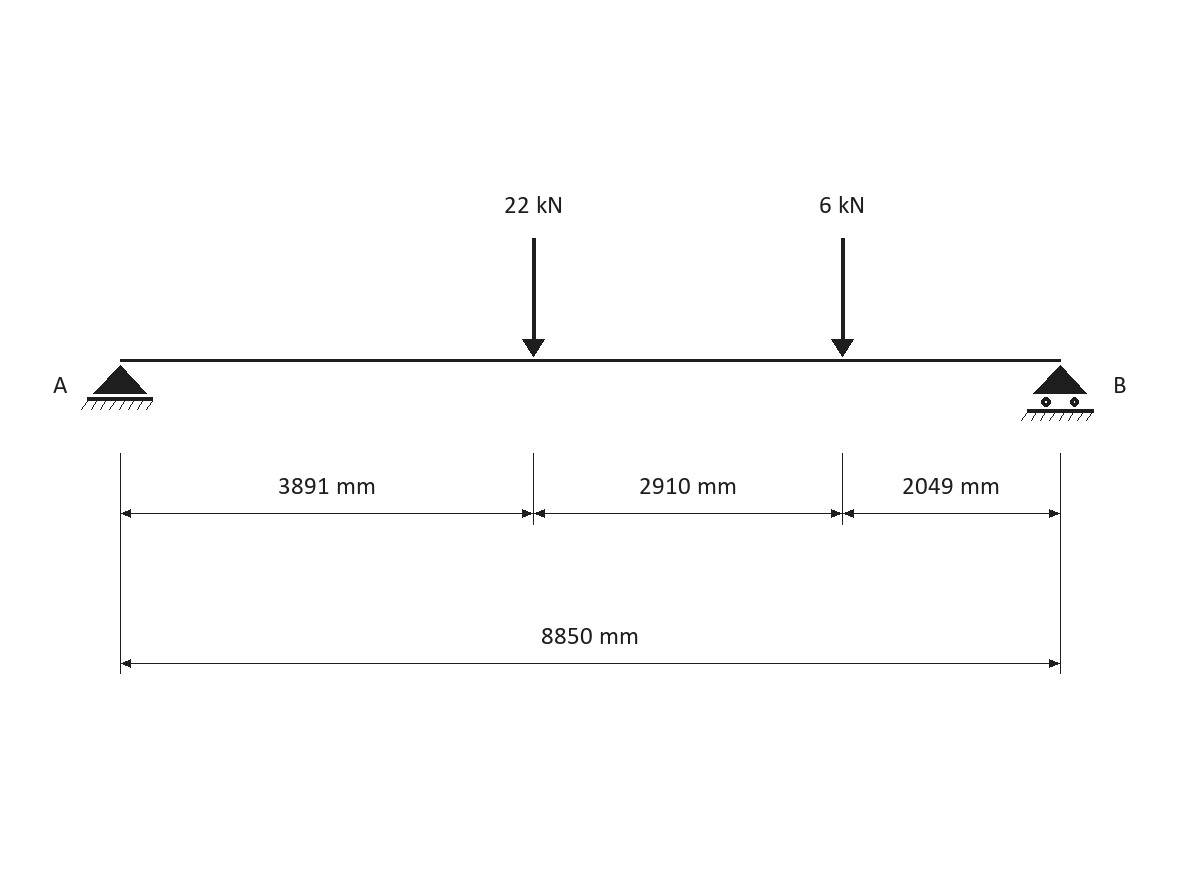pin_support: (81, 365, 153, 410)
point_load: (522, 238, 545, 357), (831, 238, 854, 357)
roller_support: (1021, 365, 1094, 421)
